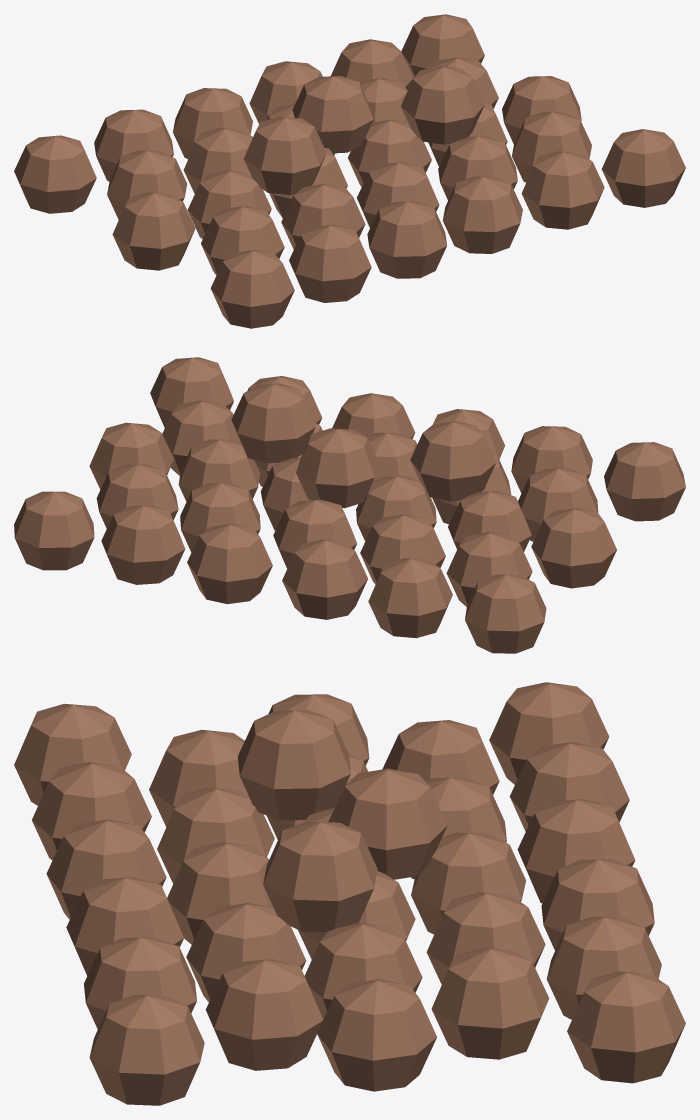
File: SM_Cook_MeatballPile_01.fbx
The picture shows the model from 3 angles, top to bottom: view 1: azimuth 30°, elevation 25°; view 2: azimuth 150°, elevation 25°; view 3: azimuth 270°, elevation 25°; orthographic projection. The views are drawn at different scales.
Parts seen in each view (by area): view 1: SM_Cook_MeatballPile_01; view 2: SM_Cook_MeatballPile_01; view 3: SM_Cook_MeatballPile_01.
Boxes of the visible parts, <box> form: SM_Cook_MeatballPile_01: <box>14,14,685,328</box>; SM_Cook_MeatballPile_01: <box>14,357,685,653</box>; SM_Cook_MeatballPile_01: <box>14,682,685,1105</box>.
Bounding box in the file's own units: 0.2698 × 0.0643 × 0.2119.
Materials: 1 (1 with a texture image).
